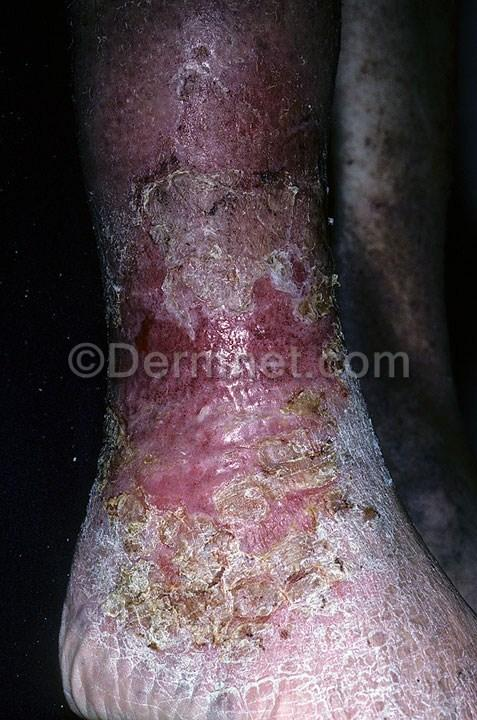Eczema: (82, 0, 325, 356), (120, 388, 367, 658), (346, 471, 473, 708), (337, 159, 455, 374), (82, 644, 346, 719), (348, 7, 433, 152), (62, 535, 135, 639)
